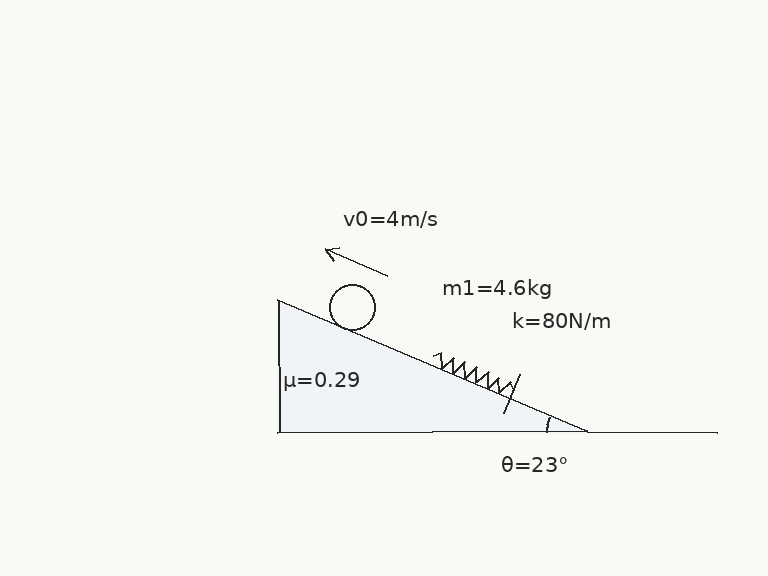ball: (327, 282, 377, 332)
ramp: (276, 299, 589, 434)
spring: (431, 351, 515, 394)
